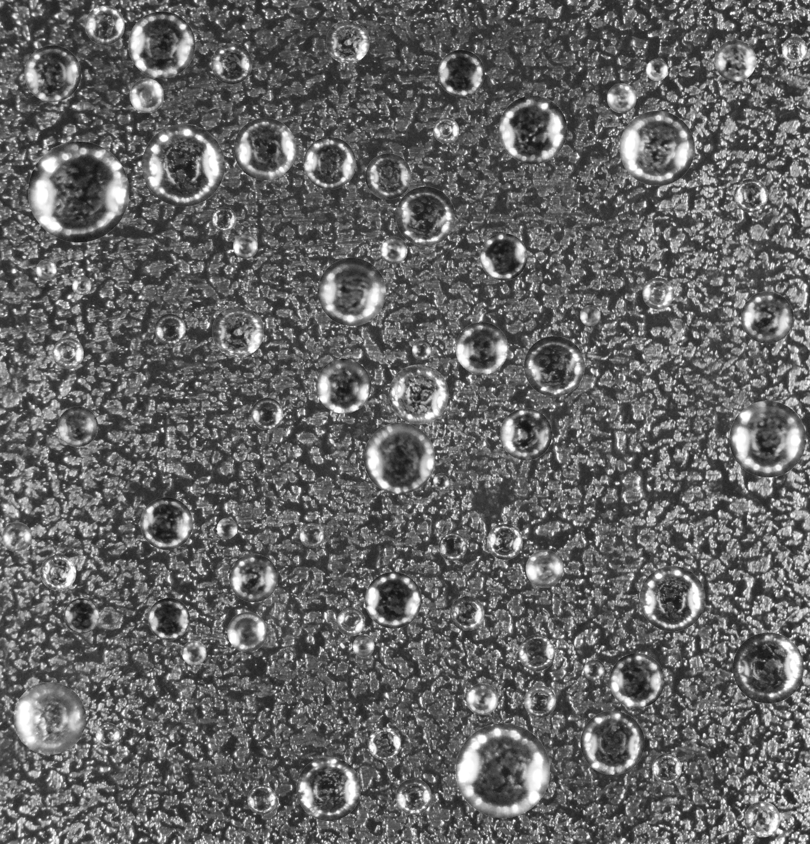Bubble: (28, 141, 129, 242), (455, 723, 550, 817), (142, 124, 224, 206), (729, 400, 806, 477), (619, 110, 694, 185), (13, 682, 85, 754), (363, 422, 435, 494), (732, 632, 803, 703), (498, 95, 567, 163), (317, 257, 385, 325), (128, 11, 195, 78), (639, 566, 705, 631), (580, 710, 644, 774), (296, 757, 360, 821), (233, 117, 296, 180), (524, 336, 584, 396), (389, 364, 448, 424), (395, 186, 455, 245), (365, 572, 421, 628), (24, 45, 80, 101), (609, 653, 664, 708), (316, 358, 371, 413), (303, 136, 356, 189), (455, 322, 508, 374), (140, 497, 192, 549), (741, 291, 793, 343), (500, 408, 552, 460), (212, 305, 263, 357), (229, 553, 277, 602), (437, 49, 484, 96), (480, 233, 527, 280), (365, 153, 411, 199), (326, 20, 369, 63), (714, 39, 756, 81), (147, 598, 189, 640), (211, 43, 252, 84), (227, 612, 267, 652), (57, 406, 97, 446), (85, 5, 124, 45), (525, 550, 563, 587), (518, 635, 554, 671), (744, 801, 780, 837), (395, 778, 431, 814), (40, 554, 76, 590), (63, 598, 99, 633), (487, 524, 522, 559), (450, 596, 484, 630), (129, 78, 163, 112), (734, 178, 767, 212), (367, 727, 400, 760), (251, 397, 283, 429), (642, 277, 674, 309), (524, 685, 556, 717), (466, 683, 498, 715), (52, 337, 83, 369), (154, 313, 185, 344), (1, 522, 31, 552), (607, 83, 636, 112), (247, 785, 276, 814), (652, 754, 681, 783), (336, 607, 365, 636), (438, 532, 466, 560), (380, 236, 407, 263), (433, 117, 459, 143), (782, 36, 807, 62), (181, 640, 206, 665), (95, 722, 119, 747), (299, 523, 324, 547), (233, 233, 257, 258), (212, 207, 236, 231), (352, 635, 374, 657), (646, 58, 668, 80), (35, 259, 56, 280), (583, 659, 604, 680), (216, 518, 237, 538), (412, 340, 432, 360), (71, 275, 91, 295), (580, 305, 600, 325), (433, 473, 450, 490), (283, 651, 293, 660)
